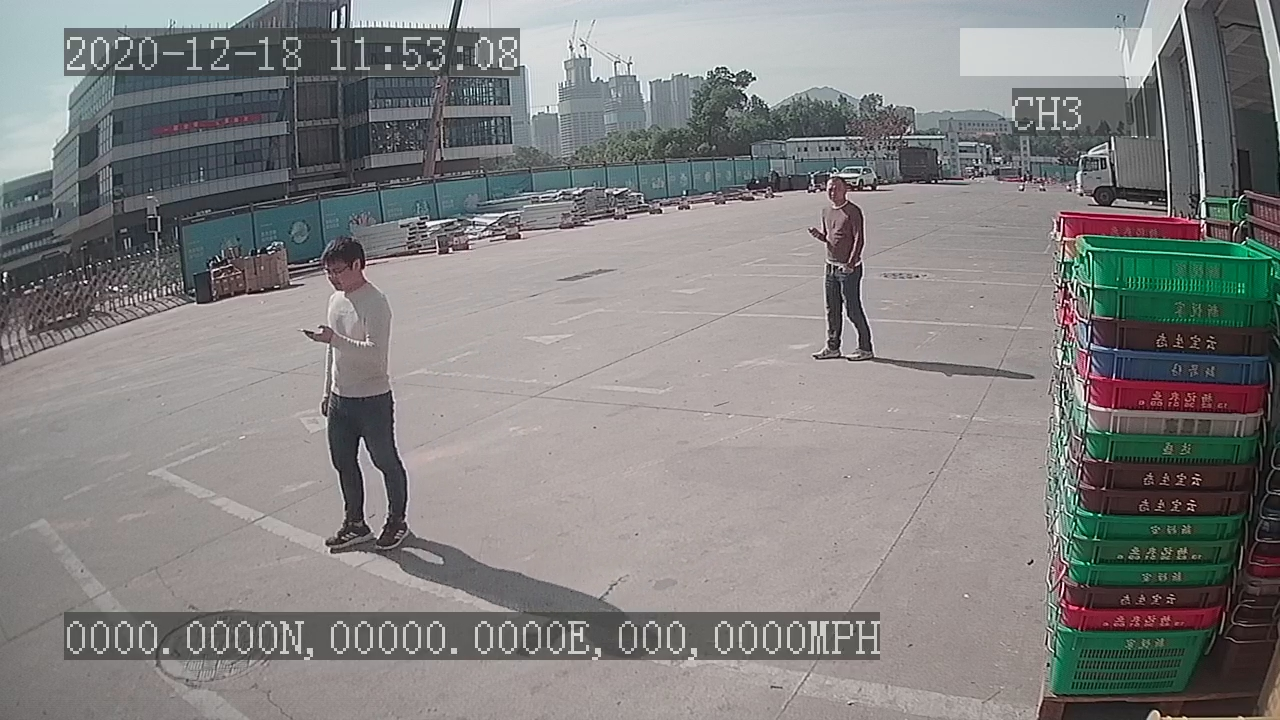person: (295, 233, 417, 560), (802, 170, 879, 370)
